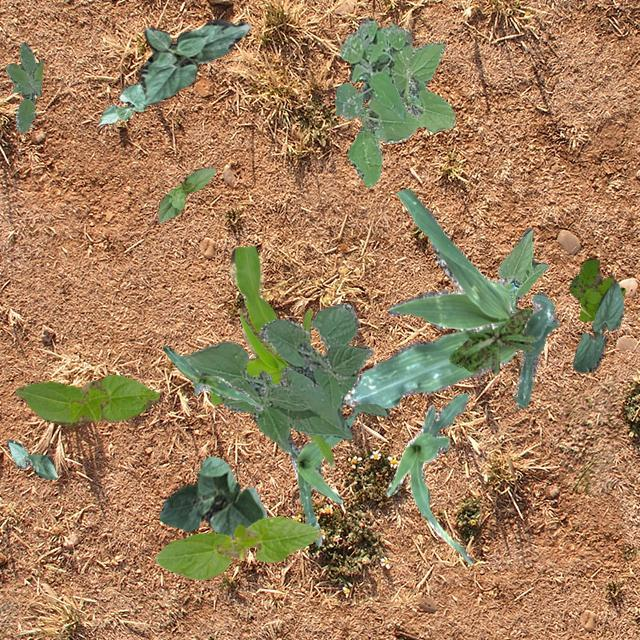crop: (342, 188, 558, 410), (180, 302, 388, 449), (209, 244, 333, 466), (384, 392, 472, 564), (284, 408, 358, 546), (156, 516, 318, 578), (140, 18, 250, 104), (158, 456, 266, 536), (13, 374, 158, 426), (162, 344, 262, 410), (572, 280, 622, 372), (496, 228, 546, 312), (156, 165, 214, 222), (98, 82, 146, 124), (6, 438, 56, 478)
weed: (334, 22, 454, 186), (338, 17, 412, 118), (448, 306, 534, 374), (568, 256, 624, 320), (4, 42, 42, 132)
